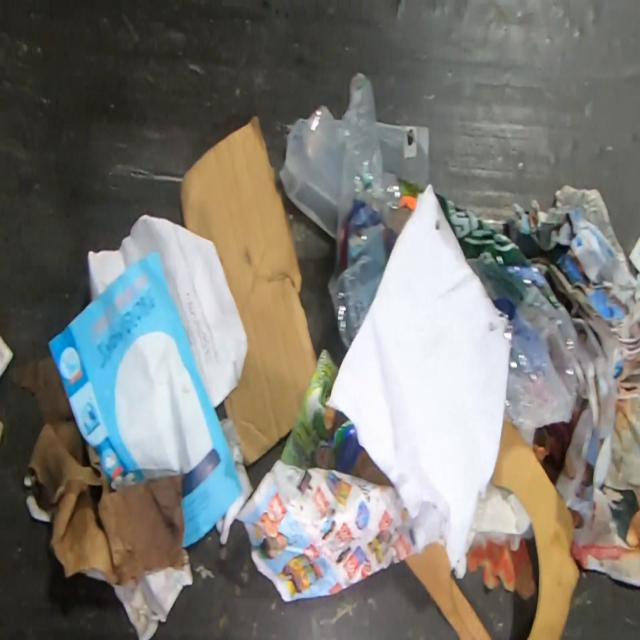cardboard: (10, 356, 194, 640), (180, 116, 318, 467), (489, 412, 581, 639), (403, 540, 494, 640)
rigid_plastic: (278, 105, 347, 240), (378, 122, 430, 189)
soft_plastic: (434, 193, 578, 431), (327, 73, 425, 350)
